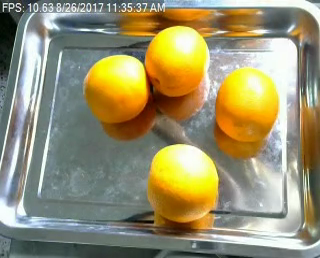Orange: (148, 142, 219, 221), (216, 68, 280, 142), (146, 25, 211, 97), (83, 53, 150, 122)
